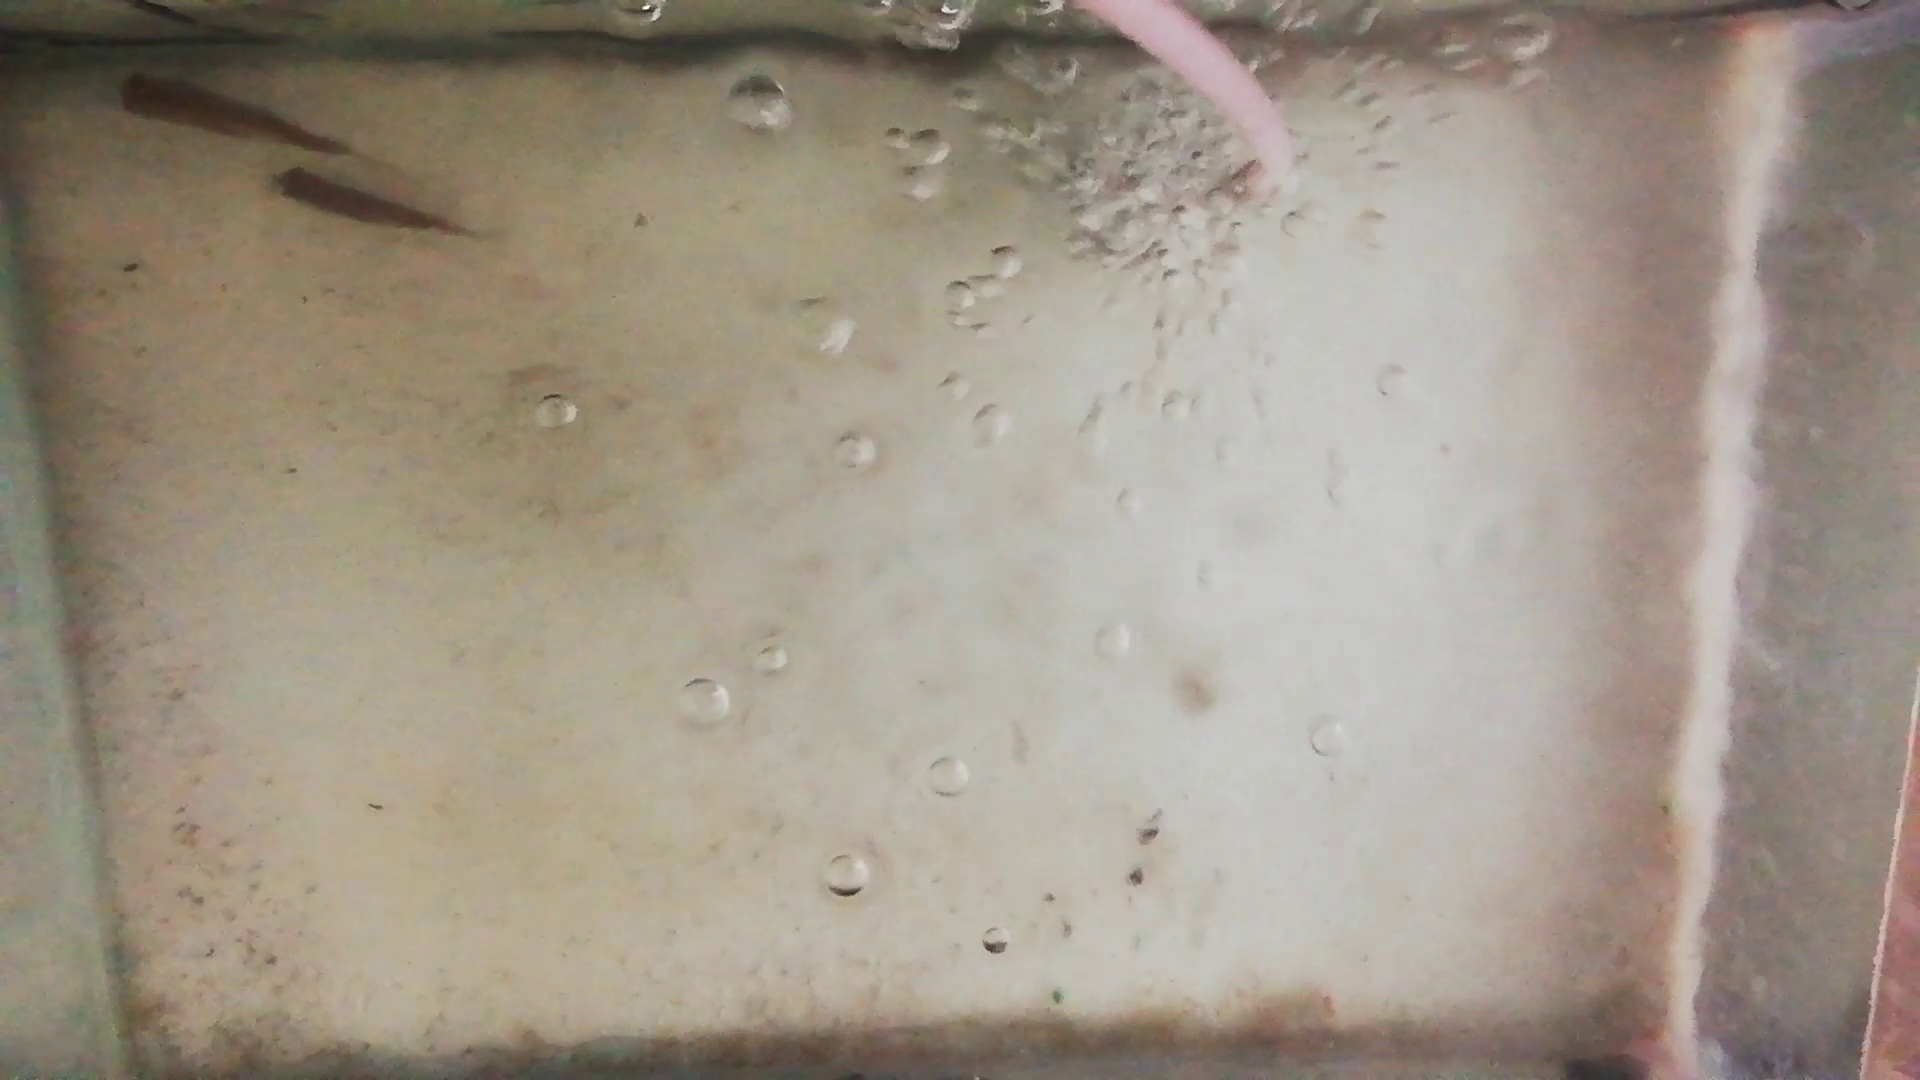fish: (116, 73, 343, 150), (269, 167, 448, 227)
